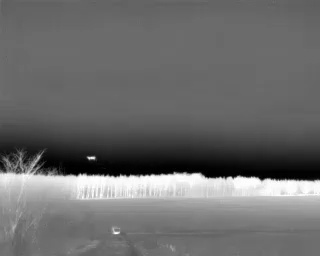DRONE: (83, 151, 101, 165)
